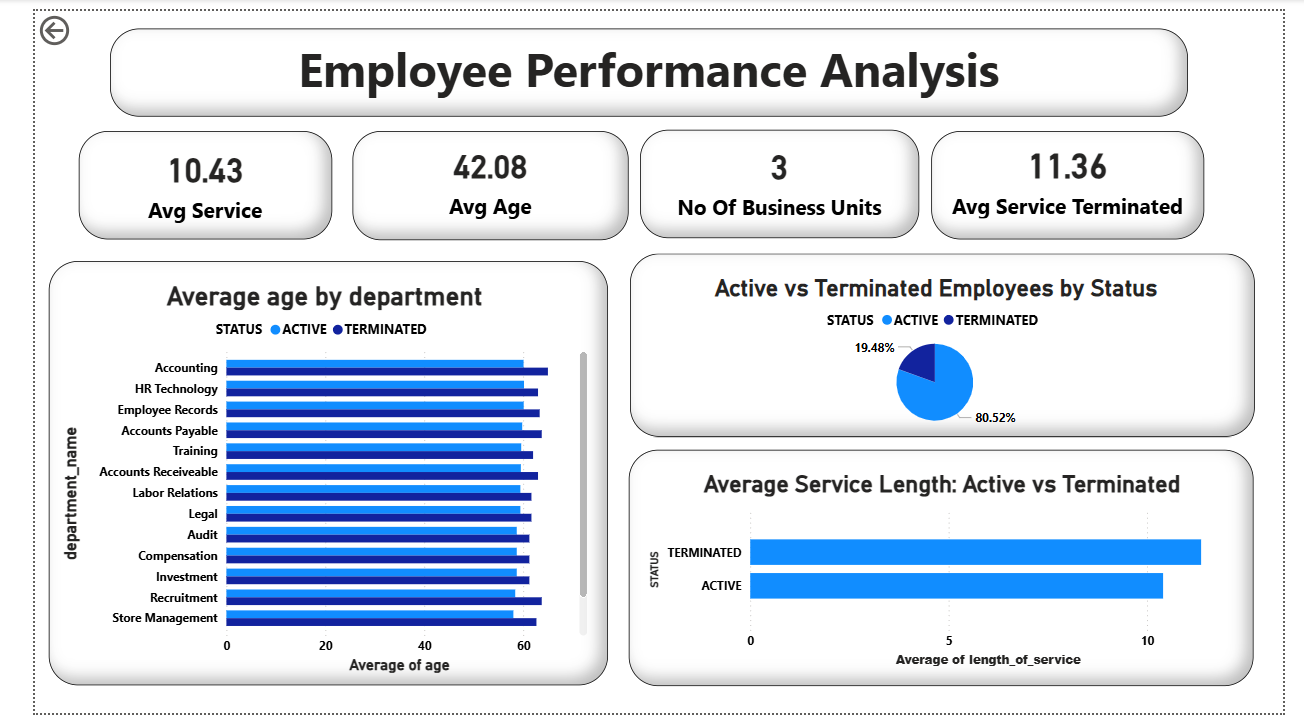

This screenshot's page, from the dashboard's own definition file:
{"tool":"powerbi","page":{"name":"Employee Performance Analysis ","canvas":[1280,720],"ordinal":1},"visuals":[{"type":"card","fields":{"Values":["Employee_dataset.Avg Service"]},"box":[44.4,123.3,260,111.1],"z":0},{"type":"card","fields":{"Values":["Employee_dataset.Avg Age"]},"box":[325.6,123.3,283.3,112.2],"z":1000},{"type":"card","fields":{"Values":["Employee_dataset.Avg Service Terminated"]},"box":[918.9,123.3,280,111.1],"z":2000},{"type":"card","fields":{"Values":["Employee_dataset.No Of Business Units"]},"box":[621.1,122.2,286.7,111.1],"z":3000},{"type":"clusteredBarChart","title":"Average age by department","fields":{"Category":["Employee_dataset.department_name"],"Series":["Employee_dataset.STATUS"],"Y":["Avg(Employee_dataset.age)"]},"box":[14.4,256.7,573.3,435.6],"z":4000},{"type":"pieChart","title":"Active vs Terminated Employees by Status ","fields":{"Y":["Count(Employee_dataset.EmployeeID)"],"Category":["Employee_dataset.STATUS"]},"box":[610,248.9,641.1,187.8],"z":5000},{"type":"clusteredBarChart","title":"Average Service Length: Active vs Terminated ","fields":{"Category":["Employee_dataset.STATUS"],"Y":["Avg(Employee_dataset.length_of_service)"]},"box":[608.9,450,641.1,242.2],"z":6000},{"type":"textbox","box":[76.7,17.8,1105.6,90],"z":7000},{"type":"actionButton","box":[0,0,100,40],"z":7001}]}

Visuals, with their boxes in screenshot pixels (x1, y1, x2, y2), scaled from the page's 1280x720 canvas onto the 1304x722 screenshot:
card - Employee_dataset.Avg Service: BBox(45, 124, 310, 235)
card - Employee_dataset.Avg Age: BBox(332, 124, 620, 236)
card - Employee_dataset.Avg Service Terminated: BBox(936, 124, 1221, 235)
card - Employee_dataset.No Of Business Units: BBox(633, 123, 925, 234)
"Average age by department" clusteredBarChart: BBox(15, 257, 599, 694)
"Active vs Terminated Employees by Status " pieChart: BBox(621, 250, 1275, 438)
"Average Service Length: Active vs Terminated " clusteredBarChart: BBox(620, 451, 1273, 694)
textbox: BBox(78, 18, 1204, 108)
actionButton: BBox(0, 0, 102, 40)
